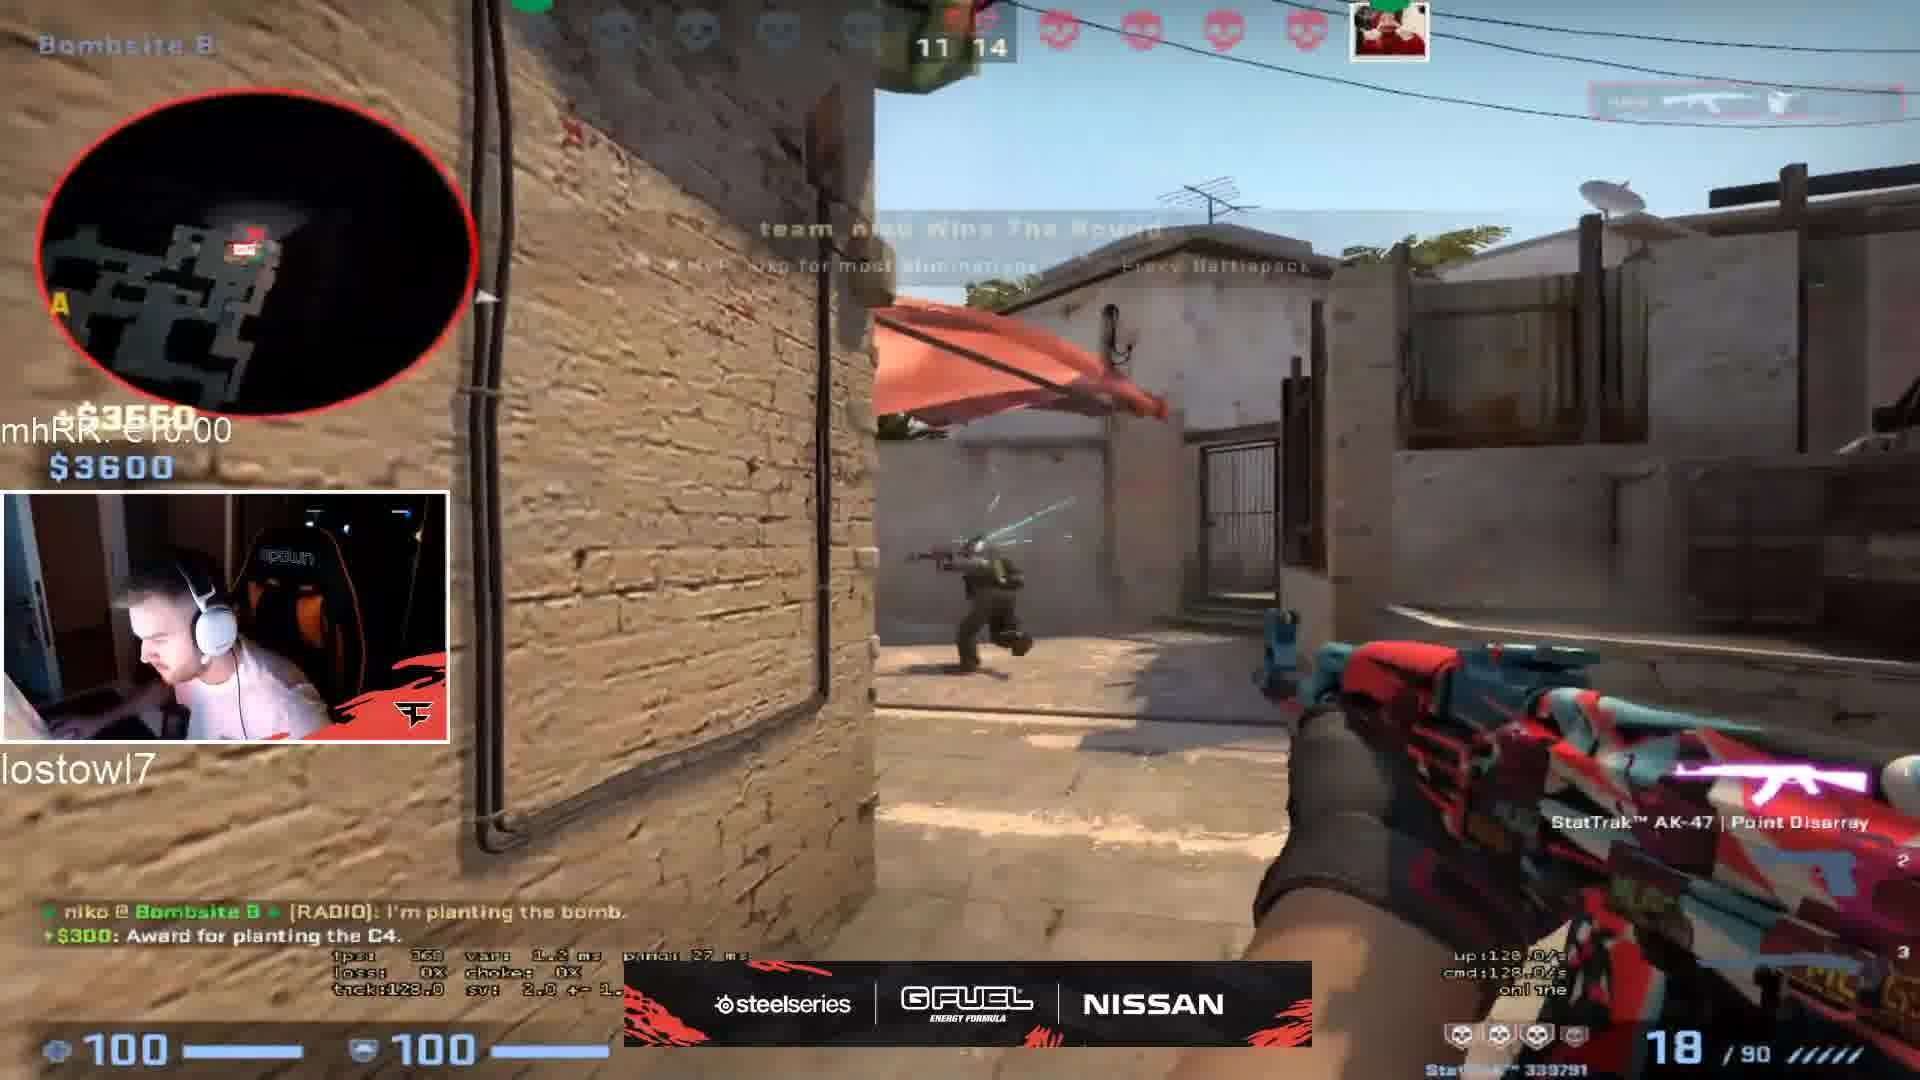enemy: (910, 539, 1044, 680)
